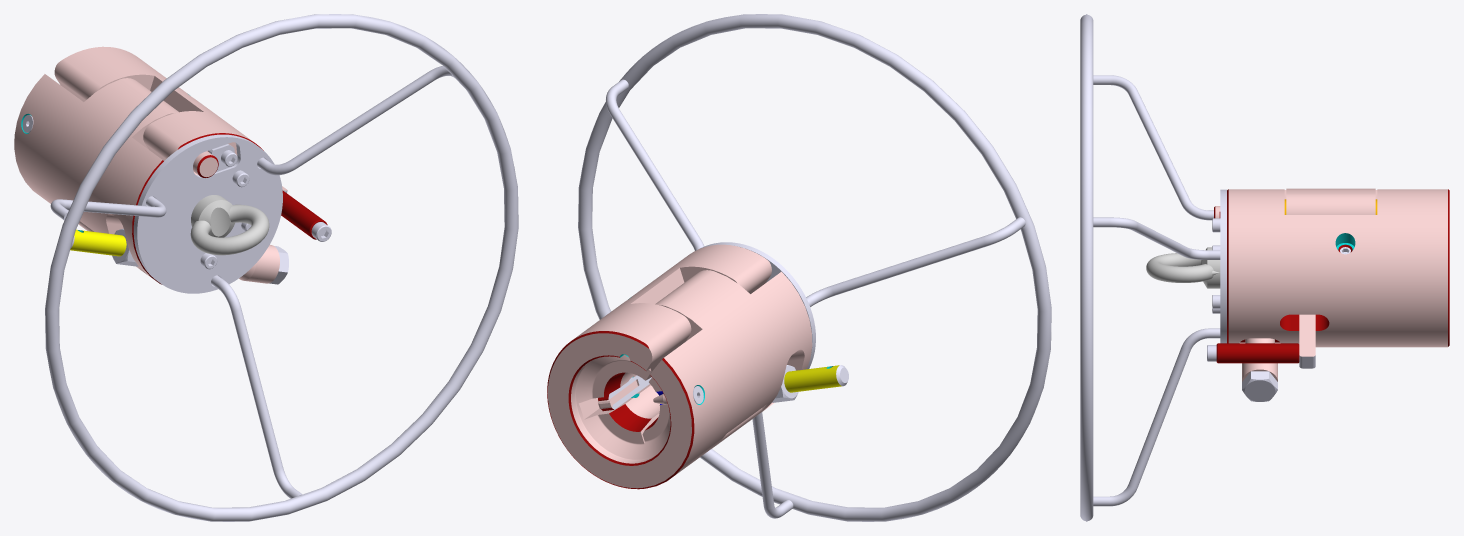
3 views of the same model, side by side, from view 1: azimuth 30°, elevation 25°; view 2: azimuth 150°, elevation 25°; view 3: azimuth 270°, elevation 25° (orthographic). The views are drawn at different scales.
Visible parts, largest first — view 1: EU24.01.012-03.008-02.1, EU24.01.012-03.003.1, EU24.01.012-03.008-03.1, EU24.01.012-03.002.1, DIN580_M10.1, EU24.01.012-03.008-01.1, EU24.01.012-03.008-01.3, EU24.01.012-03.011.1, EU24.01.012-03.008-01.2, EU24.01.012-03.010.1, EU24.01.012-03.006.1; view 2: EU24.01.012-03.003.1, EU24.01.012-03.002.1, EU24.01.012-03.008-02.1, EU24.01.012-03.008-01.2, EU24.01.012-03.008-01.3, EU24.01.012-03.011.1, EU24.01.012-03.008-01.1, EU24.01.012-03.008-03.1; view 3: EU24.01.012-03.002.1, EU24.01.012-03.008-02.1, EU24.01.012-03.008-01.1, EU24.01.012-03.003.1, EU24.01.012-03.008-01.2, DIN580_M10.1, EU24.01.012-03.010.1, EU24.01.012-03.008-01.3, EU24.01.012-03.008-03.1, EU24.01.012-03.001,1, EU24.01.012-03.011.1, EU24.01.012-03.006.1.
Boxes of the visible parts, x1,y1,x2,y2 form: EU24.01.012-03.008-02.1: [45, 14, 518, 521]; EU24.01.012-03.003.1: [14, 74, 178, 284]; EU24.01.012-03.008-03.1: [133, 134, 282, 293]; EU24.01.012-03.002.1: [54, 46, 263, 231]; DIN580_M10.1: [190, 195, 269, 255]; EU24.01.012-03.008-01.1: [211, 275, 302, 498]; EU24.01.012-03.008-01.3: [257, 66, 454, 175]; EU24.01.012-03.011.1: [70, 229, 288, 284]; EU24.01.012-03.008-01.2: [50, 196, 166, 220]; EU24.01.012-03.010.1: [281, 190, 327, 239]; EU24.01.012-03.006.1: [239, 245, 279, 283]; EU24.01.012-03.003.1: [637, 270, 812, 488]; EU24.01.012-03.002.1: [547, 244, 771, 489]; EU24.01.012-03.008-02.1: [578, 14, 1051, 521]; EU24.01.012-03.008-01.2: [806, 217, 1025, 306]; EU24.01.012-03.008-01.3: [606, 79, 704, 250]; EU24.01.012-03.011.1: [784, 365, 848, 392]; EU24.01.012-03.008-01.1: [752, 412, 793, 518]; EU24.01.012-03.008-03.1: [700, 242, 815, 369]; EU24.01.012-03.002.1: [1227, 189, 1449, 347]; EU24.01.012-03.008-02.1: [1080, 14, 1093, 521]; EU24.01.012-03.008-01.1: [1093, 328, 1220, 506]; EU24.01.012-03.003.1: [1284, 188, 1377, 214]; EU24.01.012-03.008-01.2: [1093, 75, 1213, 220]; DIN580_M10.1: [1146, 247, 1220, 288]; EU24.01.012-03.010.1: [1216, 343, 1299, 363]; EU24.01.012-03.008-01.3: [1093, 217, 1220, 259]; EU24.01.012-03.008-03.1: [1220, 189, 1226, 343]; EU24.01.012-03.001,1: [1299, 314, 1315, 368]; EU24.01.012-03.011.1: [1242, 371, 1277, 401]; EU24.01.012-03.006.1: [1242, 338, 1277, 381].
Bounding box in the file's own units: 0.308 × 0.308 × 0.224.
